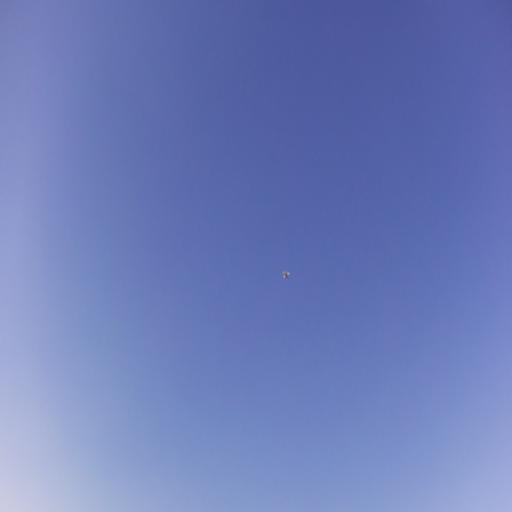drones: (280, 267, 292, 283)
